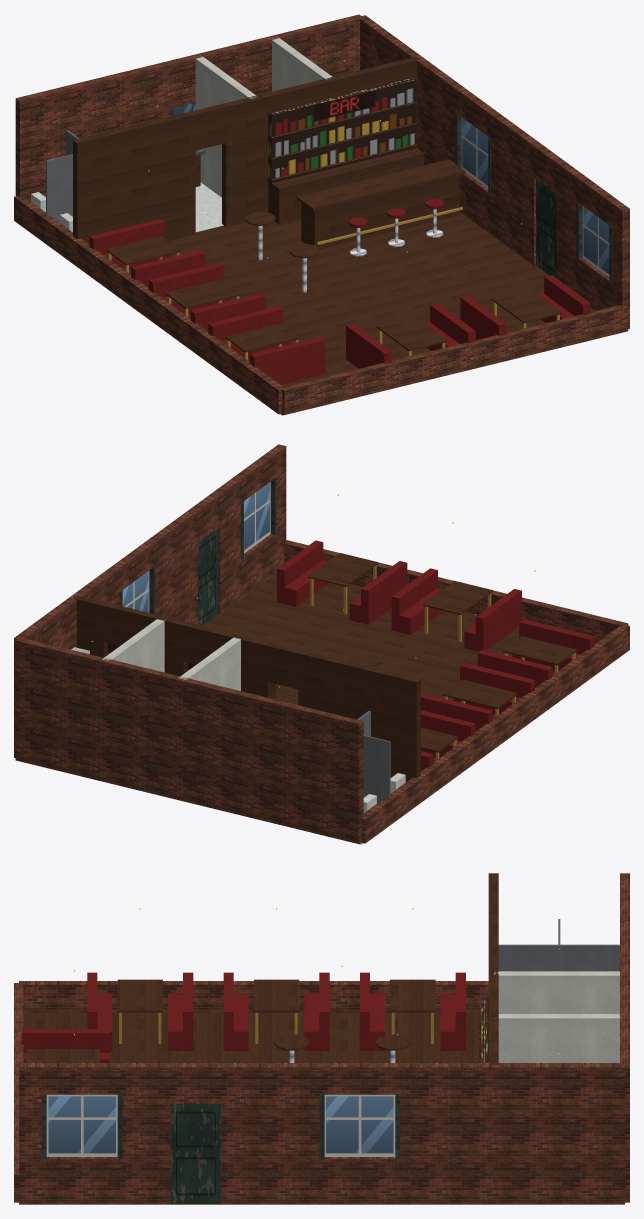
The model's file is CornerBar.fbx.
3 views of the same model, one above another, from view 1: azimuth 30°, elevation 25°; view 2: azimuth 150°, elevation 25°; view 3: azimuth 270°, elevation 25° (orthographic). The views are drawn at different scales.
Parts seen in each view (by area): view 1: Bar_Floor, Bar_WallE, Bar_WallBack, Bar_WallN, Bar_WallS, Bar_BackBar, Bar_Counter, Bar_WallW, Bar_BackCounter, Bar_WallWashOffice, Bar_BoothW2b, Bar_WallOfficeKitchen (+18 smaller); view 2: Bar_WallN, Bar_WallE, Bar_WallBack, Bar_Floor, Bar_WallW, Bar_WallS, Bar_BoothS0b, Bar_BoothS0a, Bar_BoothS1b, Bar_BoothS1a, Bar_WallOfficeKitchen, Bar_WallWashOffice (+12 smaller); view 3: Bar_WallE, Bar_Floor, Bar_WallW, Bar_WallOfficeKitchen, Bar_WallWashOffice, Bar_Door, Bar_WallN, Bar_WallBack, Bar_BoothS0a, Bar_BoothTableW2, Bar_BoothTableW1, Bar_BoothTableW0 (+13 smaller).
Part boxes in pixels (x1,y1,x2,y2): Bar_Floor: [129, 212, 594, 415]; Bar_WallE: [358, 15, 629, 328]; Bar_WallBack: [73, 56, 420, 243]; Bar_WallN: [15, 14, 363, 201]; Bar_WallS: [281, 305, 628, 414]; Bar_BackBar: [268, 77, 416, 183]; Bar_Counter: [296, 159, 465, 249]; Bar_WallW: [14, 196, 285, 414]; Bar_BackCounter: [268, 148, 424, 224]; Bar_WallWashOffice: [195, 55, 256, 197]; Bar_BoothW2b: [250, 337, 325, 384]; Bar_WallOfficeKitchen: [272, 36, 332, 91]; Bar_WallN: [15, 637, 363, 844]; Bar_WallE: [14, 444, 286, 758]; Bar_WallBack: [73, 595, 420, 782]; Bar_Floor: [202, 573, 554, 761]; Bar_WallW: [361, 625, 629, 843]; Bar_WallS: [284, 540, 628, 643]; Bar_BoothS0b: [391, 568, 443, 634]; Bar_BoothS0a: [464, 589, 521, 651]; Bar_BoothS1b: [277, 540, 328, 606]; Bar_BoothS1a: [349, 561, 407, 624]; Bar_WallOfficeKitchen: [102, 619, 165, 672]; Bar_WallWashOffice: [179, 637, 240, 690]; Bar_WallE: [19, 1063, 624, 1204]; Bar_Floor: [24, 1012, 480, 1204]; Bar_WallW: [19, 981, 488, 1012]; Bar_WallOfficeKitchen: [495, 1014, 622, 1062]; Bar_WallWashOffice: [494, 971, 619, 1013]; Bar_Door: [170, 1104, 220, 1203]; Bar_WallN: [620, 873, 629, 1202]; Bar_WallBack: [488, 873, 498, 1065]; Bar_BoothS0a: [21, 1029, 109, 1062]; Bar_BoothTableW2: [117, 979, 162, 1043]; Bar_BoothTableW1: [254, 979, 299, 1043]; Bar_BoothTableW0: [390, 979, 435, 1043].
Bounding box in the file's own units: 9.22 × 3.05 × 12.2.
